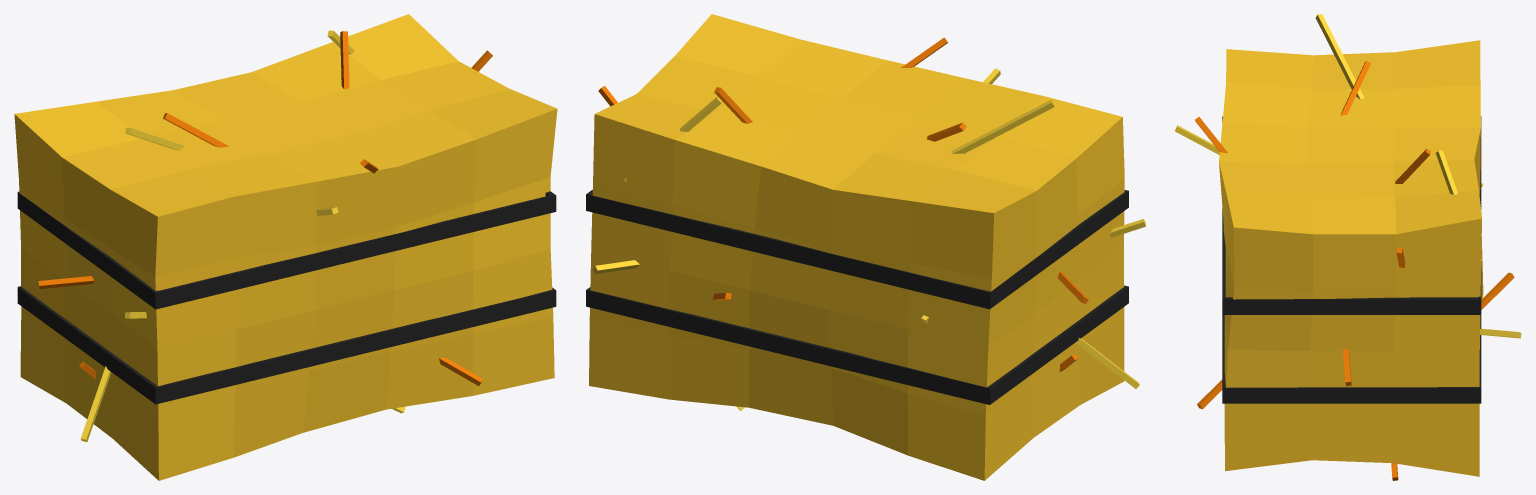
Rendered from Hay Bale.fbx.
The picture shows the model from 3 angles, left to right: view 1: azimuth 30°, elevation 25°; view 2: azimuth 150°, elevation 25°; view 3: azimuth 270°, elevation 25°; orthographic projection. The views are drawn at different scales.
Parts seen in each view (by area): view 1: Bay Hale; view 2: Bay Hale; view 3: Bay Hale.
Part boxes in pixels (box(x1,y1,x2,y2)): Bay Hale: box(14, 14, 557, 480); Bay Hale: box(586, 14, 1145, 480); Bay Hale: box(1175, 14, 1521, 480).
Size of the model in its own units: 3.21 by 2.15 by 2.14.
